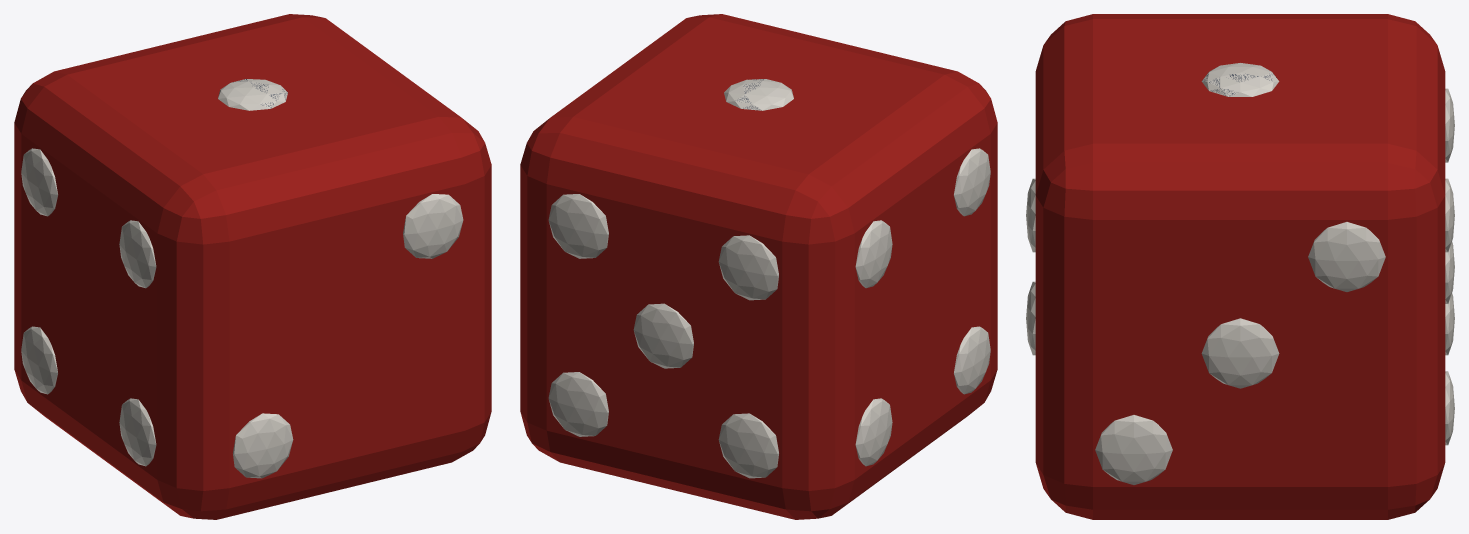
Rendered from dadi.glb.
3 views of the same model, side by side, from view 1: azimuth 30°, elevation 25°; view 2: azimuth 150°, elevation 25°; view 3: azimuth 270°, elevation 25° (orthographic). The views are drawn at different scales.
Visible parts, largest first — view 1: Dado_Attacco; view 2: Dado_Attacco; view 3: Dado_Attacco.
Part boxes in pixels (box(x1,y1,x2,y2)): Dado_Attacco: box(14, 14, 491, 519); Dado_Attacco: box(520, 14, 997, 519); Dado_Attacco: box(1026, 14, 1454, 519).
Bounding box in the file's own units: 1.05 × 1.05 × 1.05.
